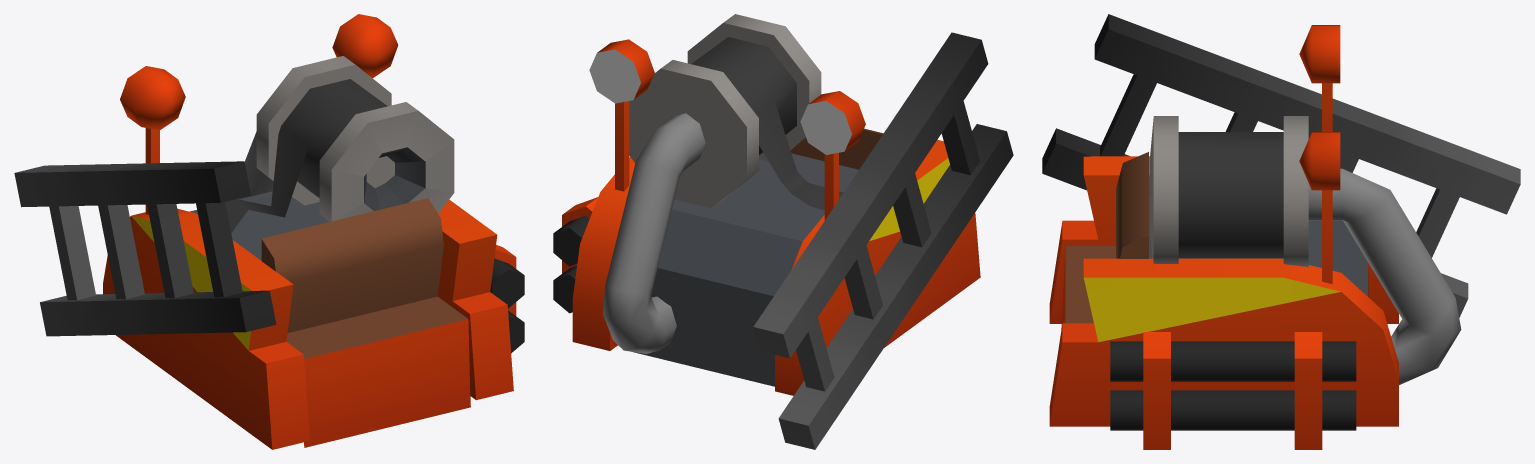
The model's file is cargo_FireEngine.fbx.
3 renders of one model, left to right at view 1: azimuth 30°, elevation 25°; view 2: azimuth 150°, elevation 25°; view 3: azimuth 270°, elevation 25°, orthographic. The views are drawn at different scales.
Parts seen in each view (by area): view 1: cargo_FireEngine; view 2: cargo_FireEngine; view 3: cargo_FireEngine.
Part boxes in pixels (box(x1,y1,x2,y2)): cargo_FireEngine: box(14, 14, 524, 449); cargo_FireEngine: box(553, 14, 1013, 449); cargo_FireEngine: box(1042, 14, 1520, 449).
Size of the model in its own units: 1182 by 1063 by 1488.
